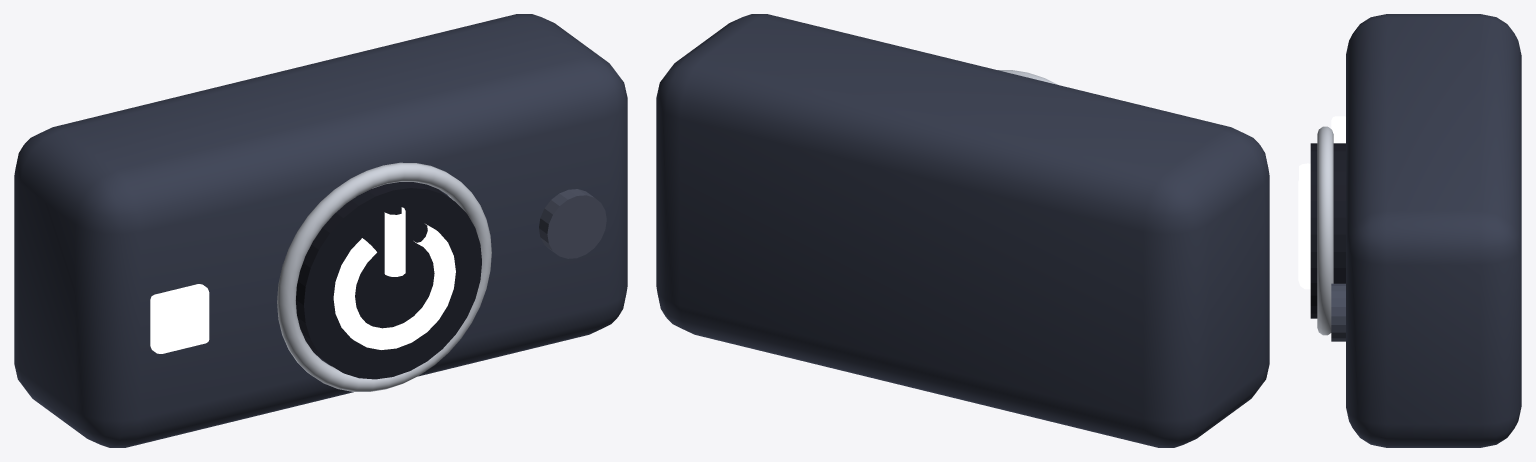
File: brick_switch.glb
The picture shows the model from 3 angles, left to right: view 1: azimuth 30°, elevation 25°; view 2: azimuth 150°, elevation 25°; view 3: azimuth 270°, elevation 25°; orthographic projection. The views are drawn at different scales.
Parts seen in each view (by area): view 1: type_switch_a; view 2: type_switch_a; view 3: type_switch_a.
Boxes of the visible parts, bbox=[...] form: type_switch_a: bbox=[14, 14, 627, 447]; type_switch_a: bbox=[656, 14, 1269, 447]; type_switch_a: bbox=[1298, 14, 1521, 447].
Bounding box in the file's own units: 0.92 × 0.44 × 0.381.
